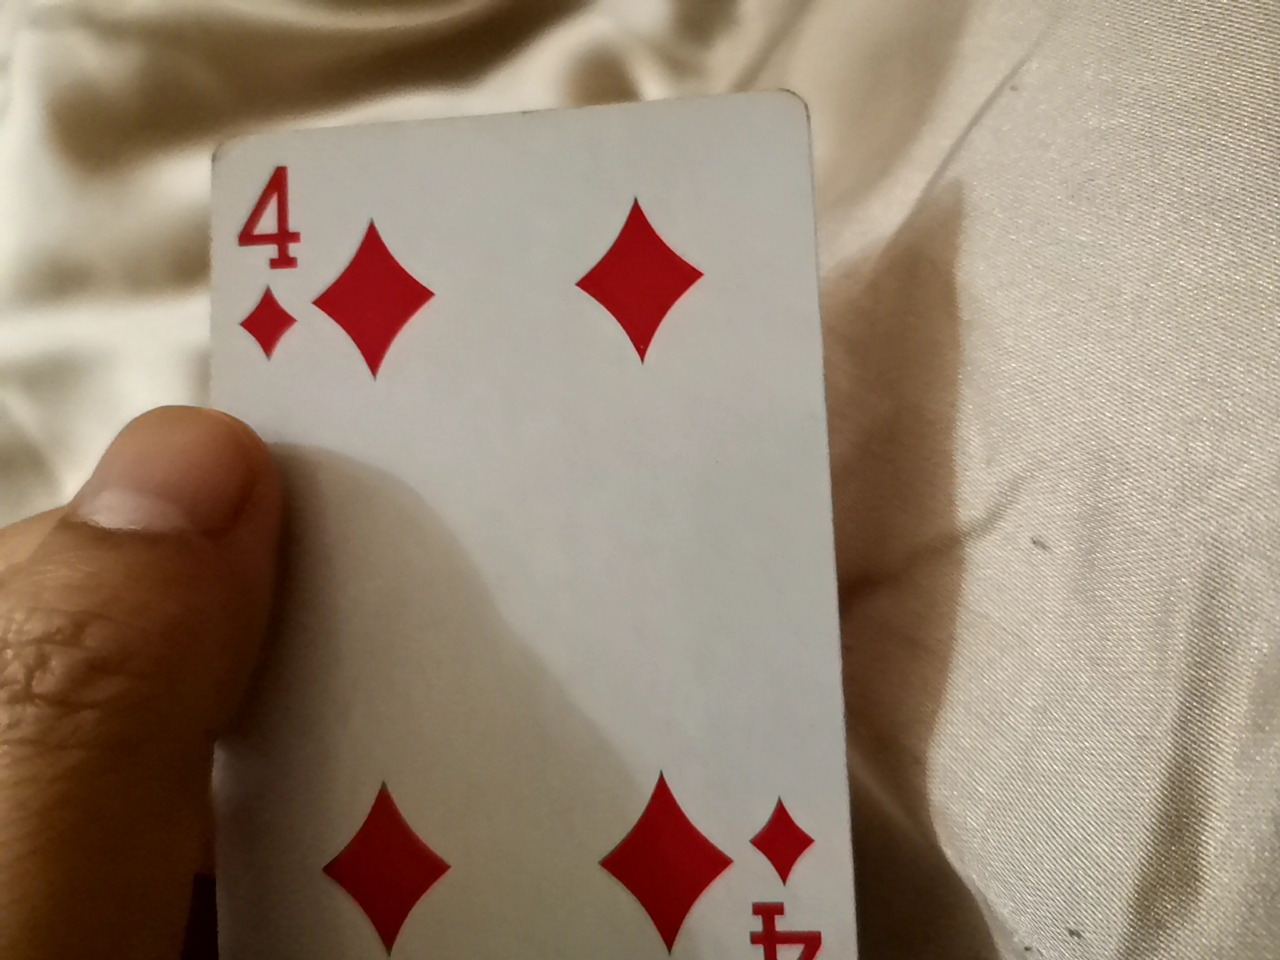fk 4: (189, 63, 870, 955)
